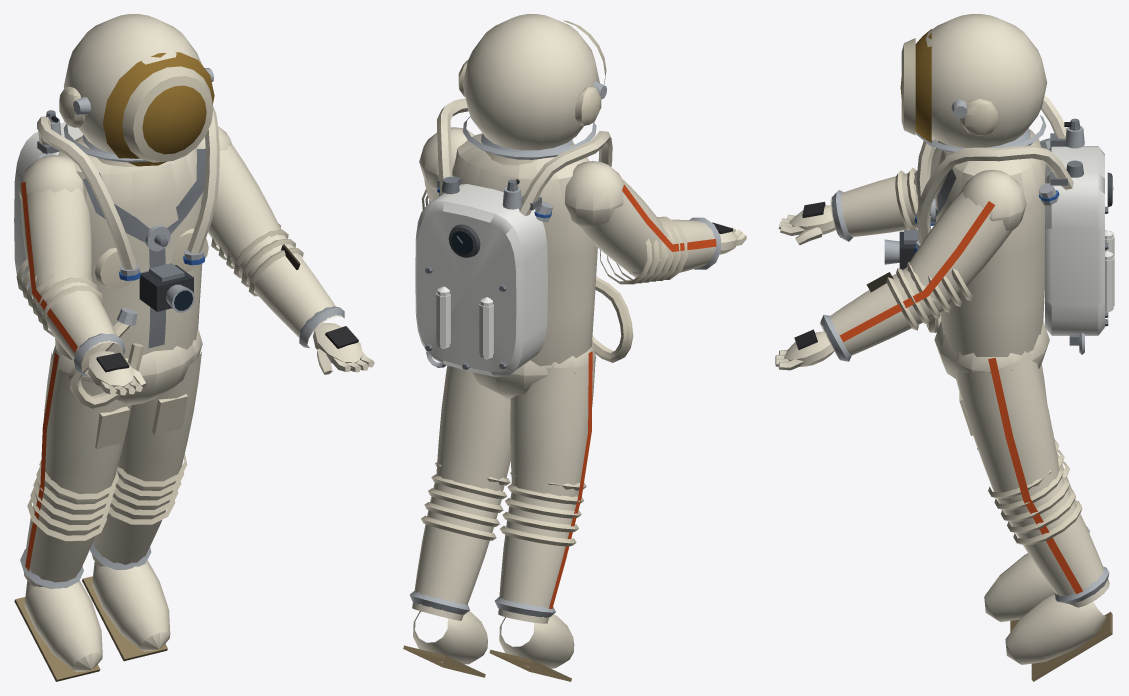
Rendered from leonov-eva.glb.
3 views of the same model, side by side, from view 1: azimuth 30°, elevation 25°; view 2: azimuth 150°, elevation 25°; view 3: azimuth 270°, elevation 25° (orthographic). The views are drawn at different scales.
Parts seen in each view (by area): view 1: body (×2); view 2: body (×2); view 3: body (×2).
Boxes of the visible parts, x1,y1,x2,y2 form: body (×2): (14,14,374,681); body (×2): (403,14,746,681); body (×2): (775,14,1114,681).
Size of the model in its own units: 0.751 by 1.8 by 0.8724.
